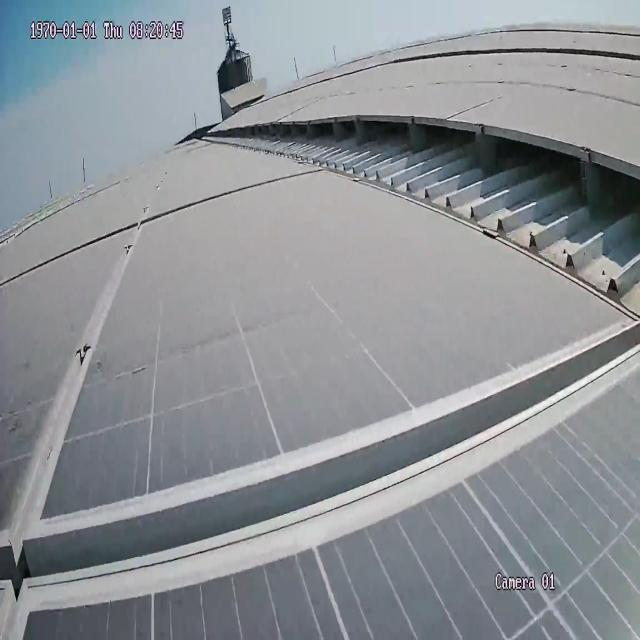interior panel: (0, 164, 633, 629)
outher panel: (206, 112, 634, 304)
